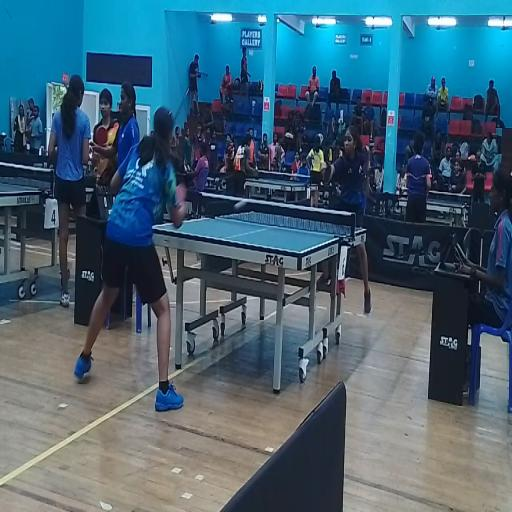ball: (232, 198, 247, 212)
